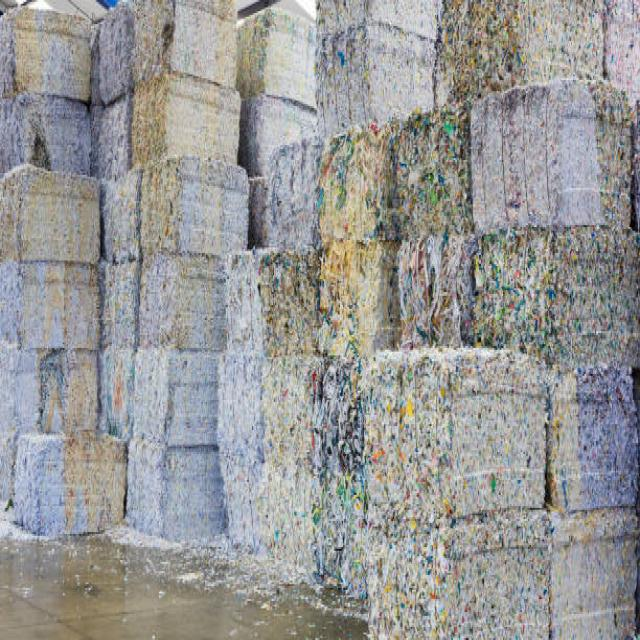trash: (15, 15, 632, 616)
